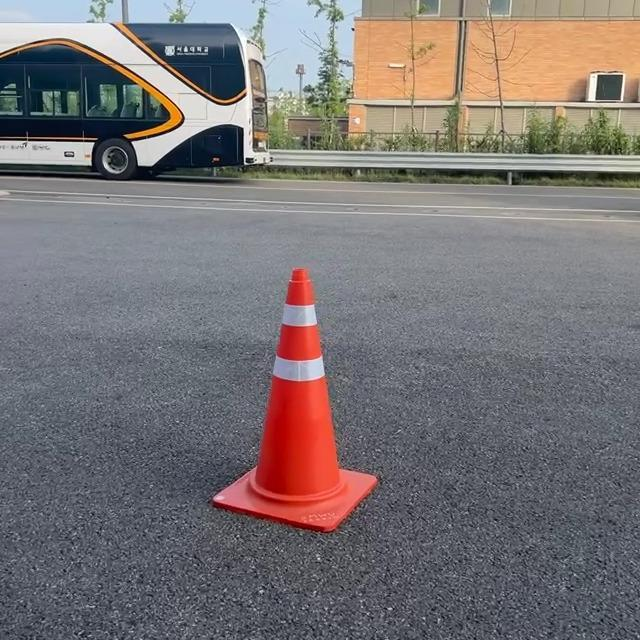fallen_object: (197, 270, 454, 598)
